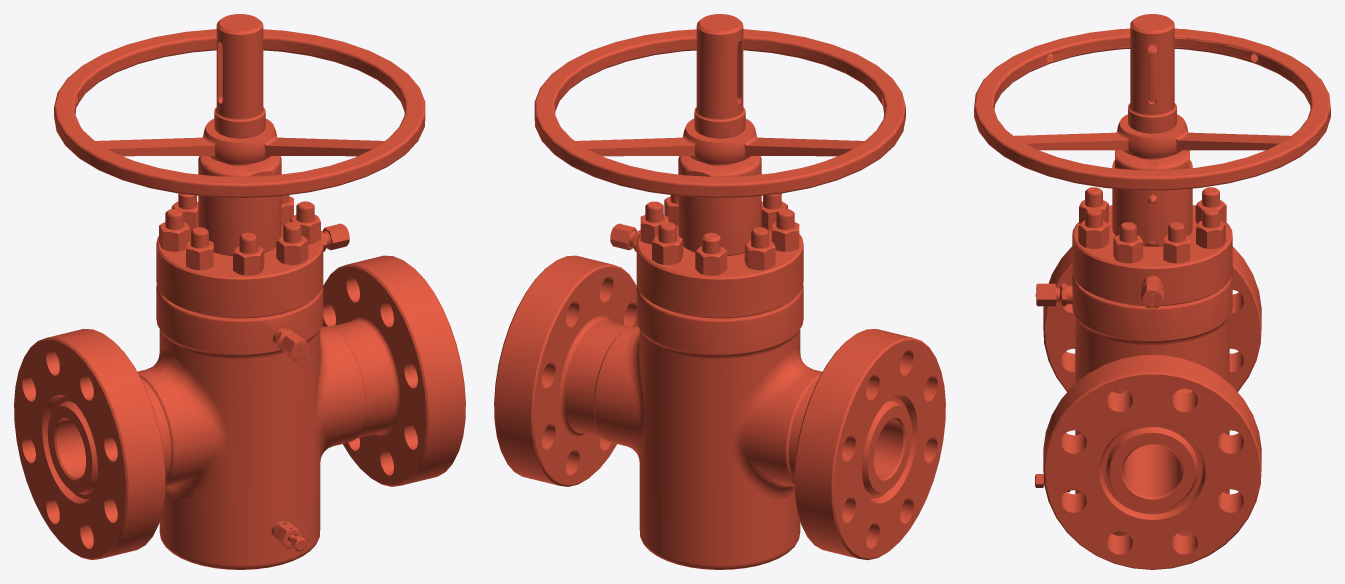
The model's file is zadvizhka.glb.
3 renders of one model, left to right at view 1: azimuth 30°, elevation 25°; view 2: azimuth 150°, elevation 25°; view 3: azimuth 270°, elevation 25°, orthographic. The views are drawn at different scales.
Visible parts, largest first — view 1: Object_6, Object_8, Object_5, Object_7, Object_2, Object_4, Object_9, Object_3; view 2: Object_6, Object_8, Object_5, Object_2, Object_7, Object_4, Object_9, Object_3; view 3: Object_6, Object_5, Object_4, Object_2, Object_3, Object_7, Object_8, Object_9.
Boxes of the visible parts, left/top/right/bottom form: Object_6: left=48, top=29, right=465, bottom=558; Object_8: left=154, top=329, right=320, bottom=565; Object_5: left=22, top=35, right=425, bottom=524; Object_7: left=14, top=193, right=465, bottom=560; Object_2: left=147, top=25, right=426, bottom=494; Object_4: left=22, top=14, right=417, bottom=550; Object_9: left=141, top=293, right=394, bottom=478; Object_3: left=46, top=264, right=428, bottom=569; Object_6: left=494, top=29, right=911, bottom=558; Object_8: left=639, top=329, right=812, bottom=565; Object_5: left=534, top=35, right=937, bottom=548; Object_2: left=533, top=26, right=805, bottom=498; Object_7: left=494, top=141, right=945, bottom=560; Object_4: left=542, top=14, right=913, bottom=524; Object_9: left=565, top=293, right=818, bottom=478; Object_3: left=531, top=264, right=913, bottom=569; Object_6: left=974, top=28, right=1330, bottom=568; Object_5: left=974, top=35, right=1330, bottom=514; Object_4: left=1035, top=14, right=1243, bottom=554; Object_2: left=1112, top=26, right=1192, bottom=246; Object_3: left=1035, top=267, right=1259, bottom=492; Object_7: left=1043, top=143, right=1273, bottom=569; Object_8: left=1075, top=44, right=1229, bottom=535; Object_9: left=1075, top=281, right=1229, bottom=344.
Size of the model in its own units: 422 by 612 by 400.
